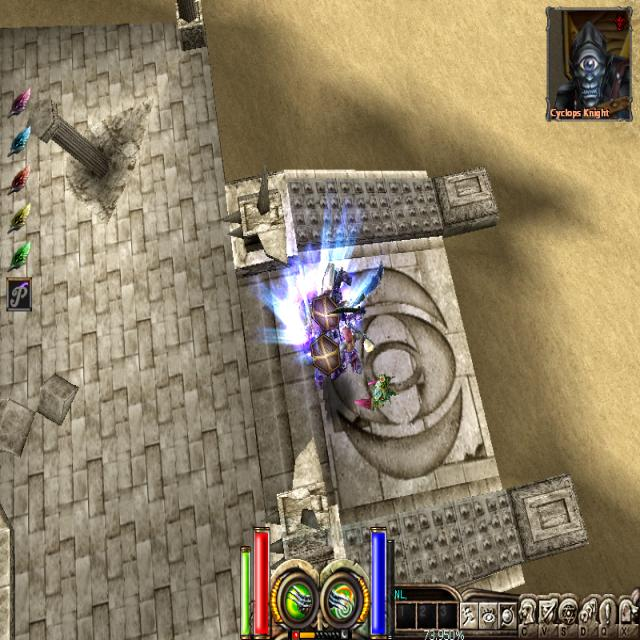monster: (306, 333, 337, 382), (362, 374, 396, 412), (340, 326, 364, 378), (318, 291, 341, 335), (364, 339, 374, 352)
